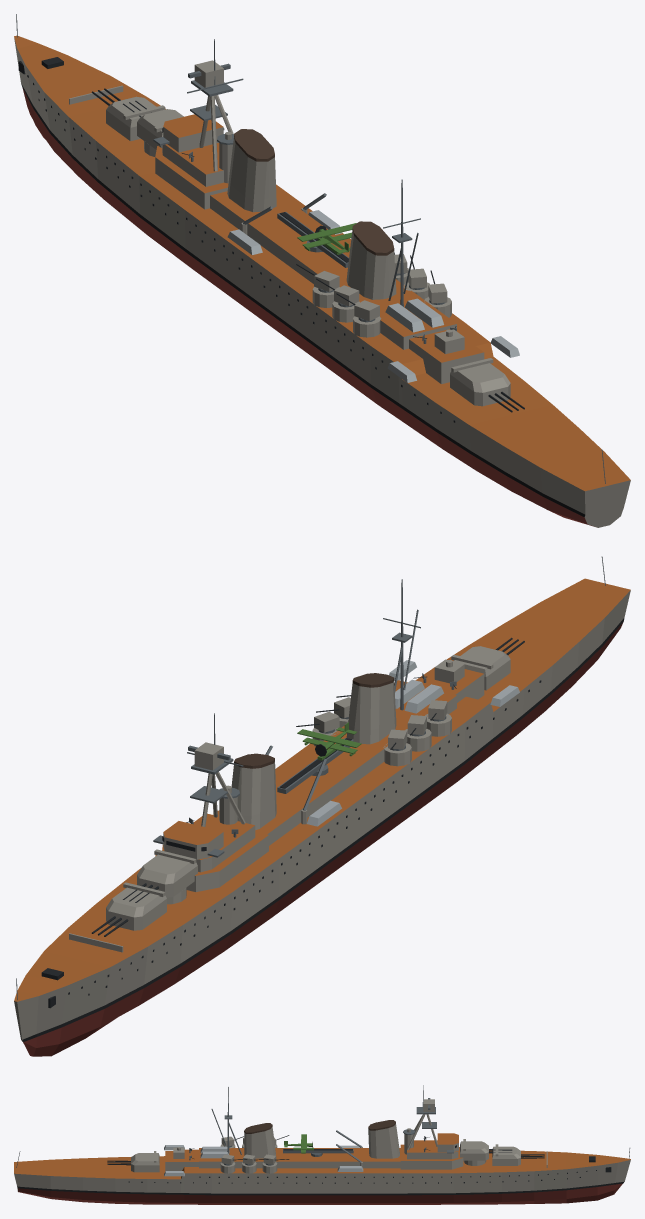
The model's file is kirov.glb.
The picture shows the model from 3 angles, top to bottom: view 1: azimuth 30°, elevation 25°; view 2: azimuth 150°, elevation 25°; view 3: azimuth 270°, elevation 25°; orthographic projection. The views are drawn at different scales.
Visible parts, largest first — view 1: Hull, Midships deckhouse, Fwd funnel, Aft funnel, Turret C house, Aft superstructure, Superstructure 1, Superstructure 2, Bridge, Turret A house, Aft funnel cap, Fwd funnel cap (+1 smaller); view 2: Hull, Midships deckhouse, Aft funnel, Fwd funnel, Turret A house, Superstructure 1, Turret B house, Bridge, Superstructure 2, Turret C house, Aft superstructure; view 3: Hull, Midships deckhouse, Fwd funnel, Superstructure 1, Aft funnel, Superstructure 2, Turret C house, Turret A house, Aft superstructure, Turret B house, Bridge, Catapult (+3 smaller).
Part boxes in pixels (x1,y1,x2,y2): Hull: (14, 35, 630, 527); Midships deckhouse: (210, 191, 456, 349); Fwd funnel: (227, 137, 276, 212); Aft funnel: (346, 229, 396, 299); Turret C house: (450, 363, 510, 406); Aft superstructure: (409, 329, 484, 384); Superstructure 1: (155, 146, 228, 209); Superstructure 2: (162, 143, 223, 186); Bridge: (163, 114, 223, 152); Turret A house: (106, 96, 156, 141); Aft funnel cap: (352, 221, 394, 255); Fwd funnel cap: (234, 129, 274, 161); Hull: (14, 578, 630, 1056); Midships deckhouse: (255, 682, 456, 845); Aft funnel: (346, 680, 396, 744); Fwd funnel: (231, 761, 276, 829); Turret A house: (106, 887, 166, 930); Superstructure 1: (155, 831, 268, 891); Turret B house: (137, 854, 197, 897); Bridge: (163, 821, 223, 859); Superstructure 2: (162, 813, 255, 872); Turret C house: (453, 646, 510, 690); Aft superstructure: (417, 668, 484, 702); Hull: (14, 1149, 630, 1204); Midships deckhouse: (199, 1148, 400, 1168); Fwd funnel: (368, 1124, 399, 1158); Superstructure 1: (400, 1144, 463, 1169); Aft funnel: (244, 1127, 275, 1158); Superstructure 2: (407, 1140, 458, 1159); Turret C house: (131, 1153, 159, 1172); Turret A house: (492, 1146, 520, 1165); Aft superstructure: (165, 1151, 198, 1170); Turret B house: (460, 1141, 488, 1160); Bridge: (437, 1133, 458, 1152); Catapult: (283, 1149, 353, 1153).
Size of the model in its own units: 21 by 39.75 by 191.
